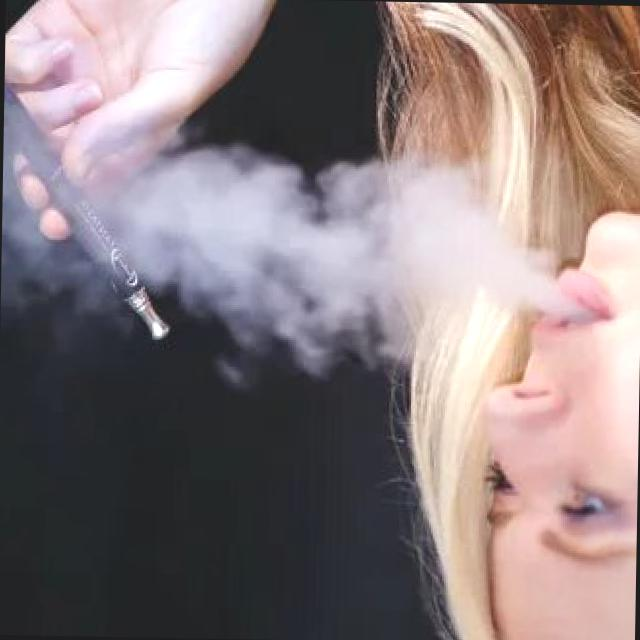smoke: (0, 76, 182, 341)
